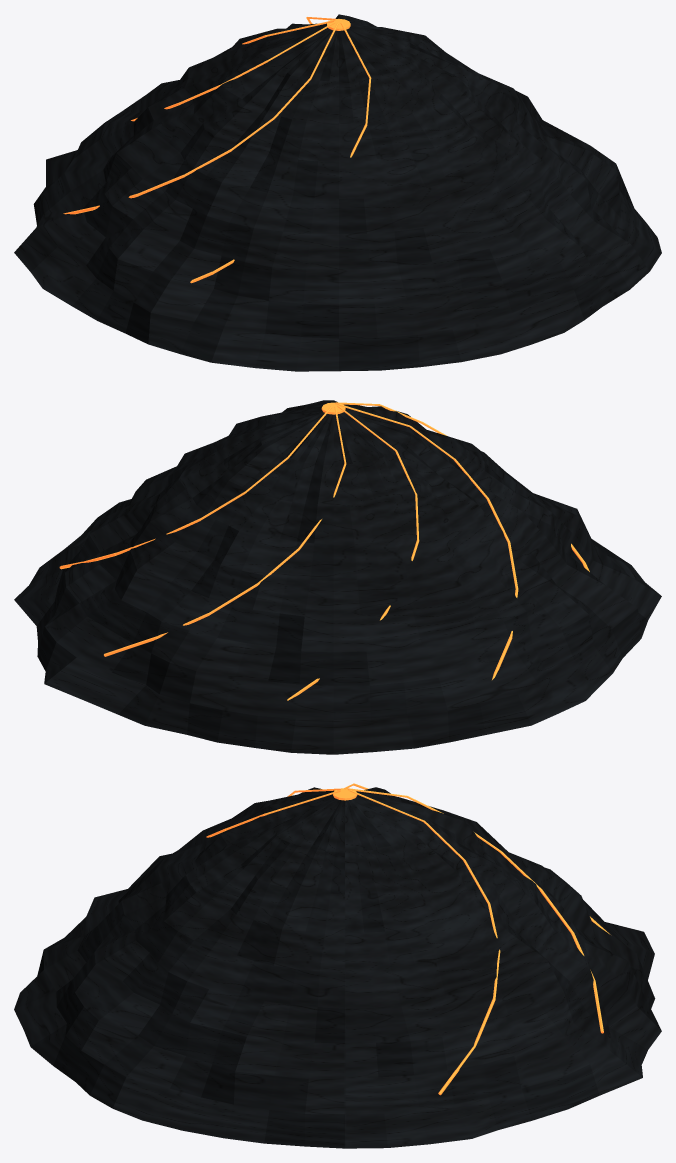
File: volcano-lod1.glb
3 renders of one model, top to bottom at view 1: azimuth 30°, elevation 25°; view 2: azimuth 150°, elevation 25°; view 3: azimuth 270°, elevation 25°, orthographic. The views are drawn at different scales.
Parts seen in each view (by area): view 1: BasaltStratovolcano, CinematicBatch_lava; view 2: BasaltStratovolcano, CinematicBatch_lava; view 3: BasaltStratovolcano, CinematicBatch_lava.
Boxes of the visible parts, <box> form: BasaltStratovolcano: <box>14,14,661,371</box>; CinematicBatch_lava: <box>63,17,371,283</box>; BasaltStratovolcano: <box>14,400,661,754</box>; CinematicBatch_lava: <box>59,402,589,700</box>; BasaltStratovolcano: <box>14,787,661,1148</box>; CinematicBatch_lava: <box>206,783,610,1095</box>.
Bounding box in the file's own units: 133 × 51.98 × 133.
2 materials, 1 textured.
